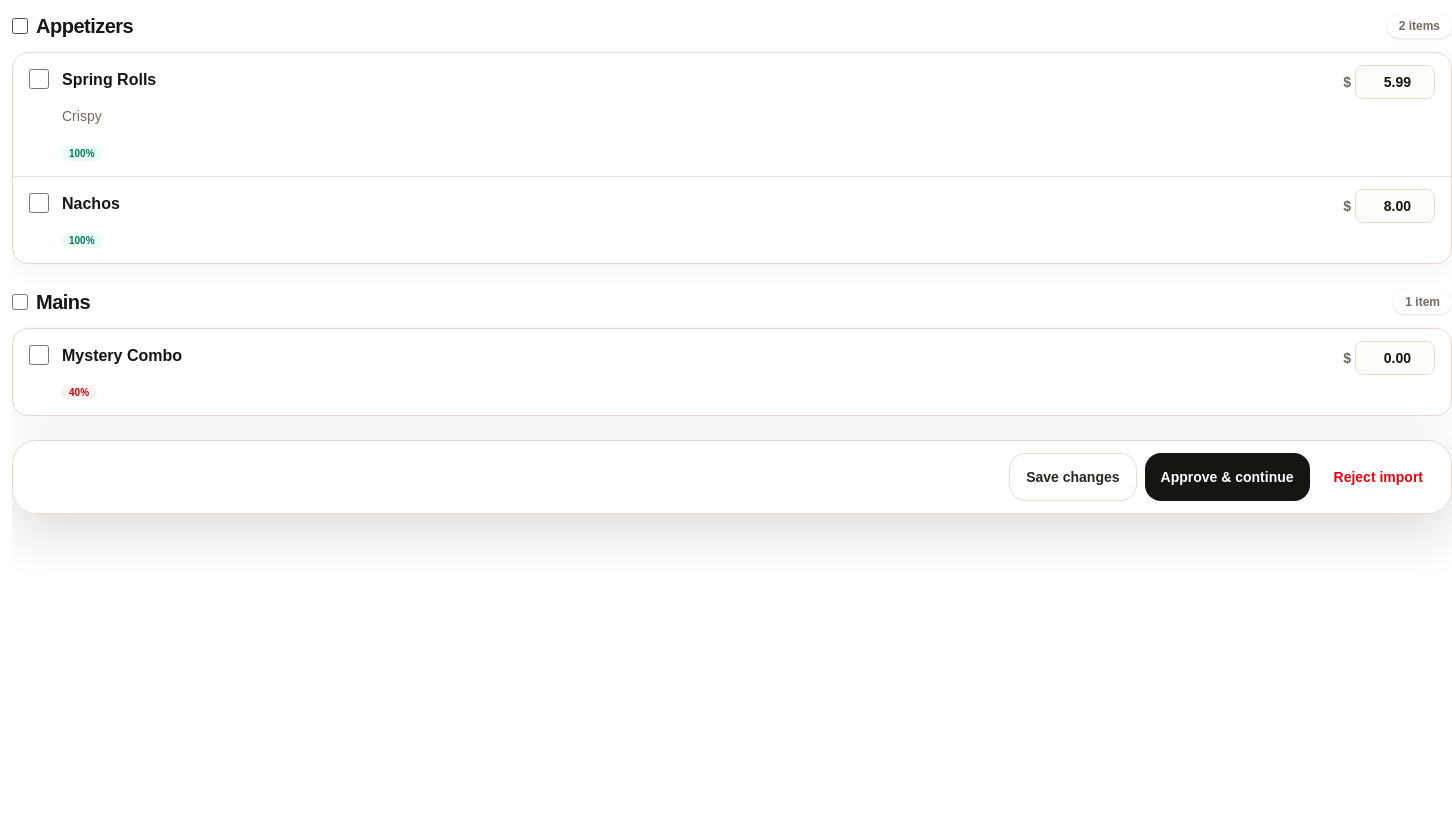
Test case: ReviewEditor — bulk selection (Sprint 18 Part 5) › selects every item in a category via the category checkbox
This screenshot has width=1452, height=822.
Click the checkbox named "Select all in Appetizers" at (20, 26), box [12,18,28,34]
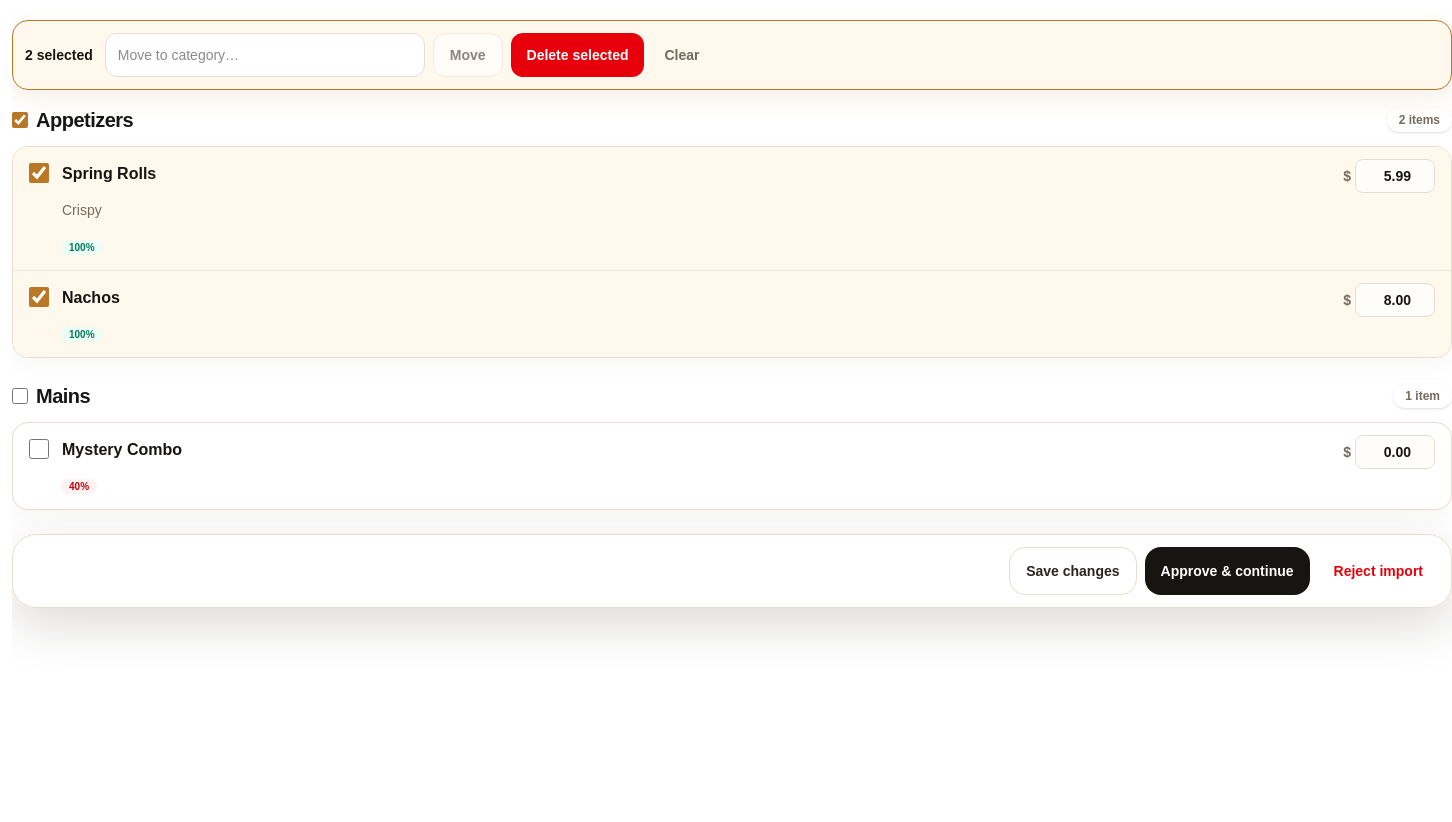
Now the text "2 selected" is shown, box [25,45,93,65]
